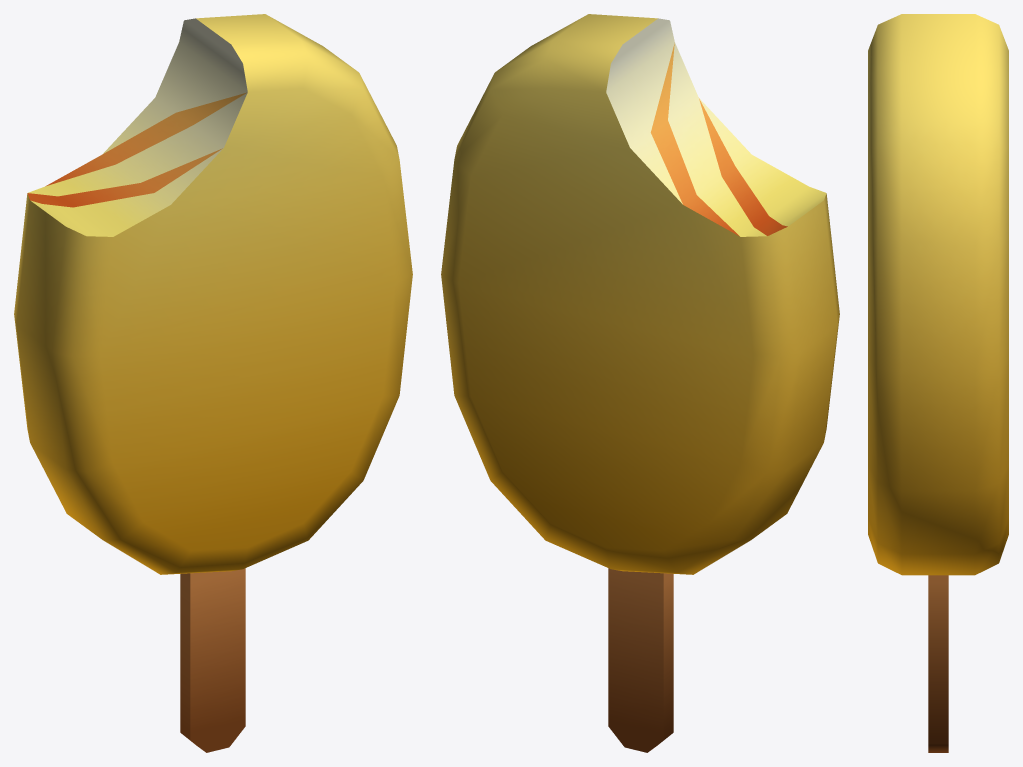
The model's file is m_BigPopsicle08.fbx.
3 renders of one model, left to right at view 1: azimuth 30°, elevation 25°; view 2: azimuth 150°, elevation 25°; view 3: azimuth 270°, elevation 25°, orthographic. The views are drawn at different scales.
Parts seen in each view (by area): view 1: m_BigPopsicle08; view 2: m_BigPopsicle08; view 3: m_BigPopsicle08.
Boxes of the visible parts, x1,y1,x2,y2 form: m_BigPopsicle08: (14,14,412,752); m_BigPopsicle08: (441,14,839,752); m_BigPopsicle08: (868,14,1008,752).
Bounding box in the file's own units: 12.05 × 22.96 × 4.
